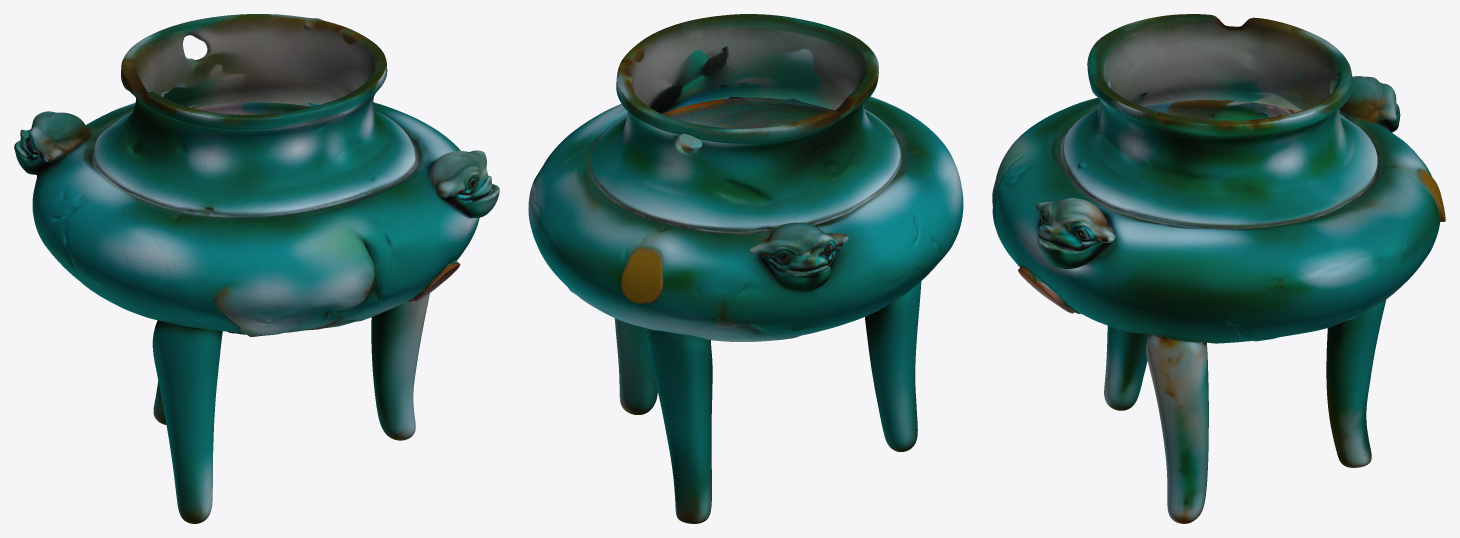
Rendered from tripo.glb.
3 renders of one model, left to right at view 1: azimuth 30°, elevation 25°; view 2: azimuth 150°, elevation 25°; view 3: azimuth 270°, elevation 25°, orthographic.
Visible parts, largest first — view 1: tripo_node_d6d33ab0-20e9-4089-aab9-26311f1d6a15; view 2: tripo_node_d6d33ab0-20e9-4089-aab9-26311f1d6a15; view 3: tripo_node_d6d33ab0-20e9-4089-aab9-26311f1d6a15.
Part boxes in pixels (x1=…): tripo_node_d6d33ab0-20e9-4089-aab9-26311f1d6a15: x1=14, y1=14, x2=499, y2=523; tripo_node_d6d33ab0-20e9-4089-aab9-26311f1d6a15: x1=528, y1=14, x2=963, y2=523; tripo_node_d6d33ab0-20e9-4089-aab9-26311f1d6a15: x1=992, y1=14, x2=1445, y2=523.
Size of the model in its own units: 0.9751 by 0.9885 by 1.
Materials: 1 (1 with a texture image).
